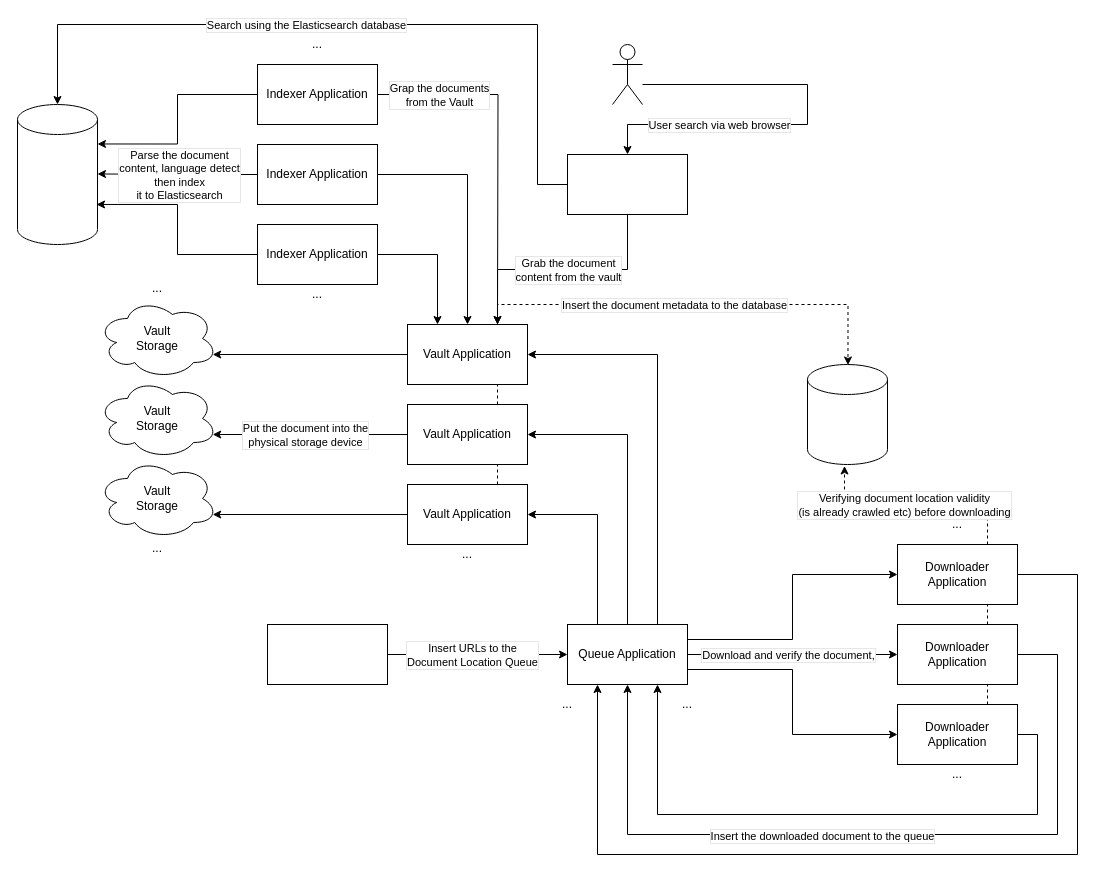
This 1103x880 diagram has some shape labels left out. Here are the shapes that lost their labels. From the top down, the centre of each, then its label:
At point 57,174: "Elasticsearch Instances".
At point 627,184: "Web Application".
At point 847,414: "MongoDB".
At point 327,654: "Generator Application".
